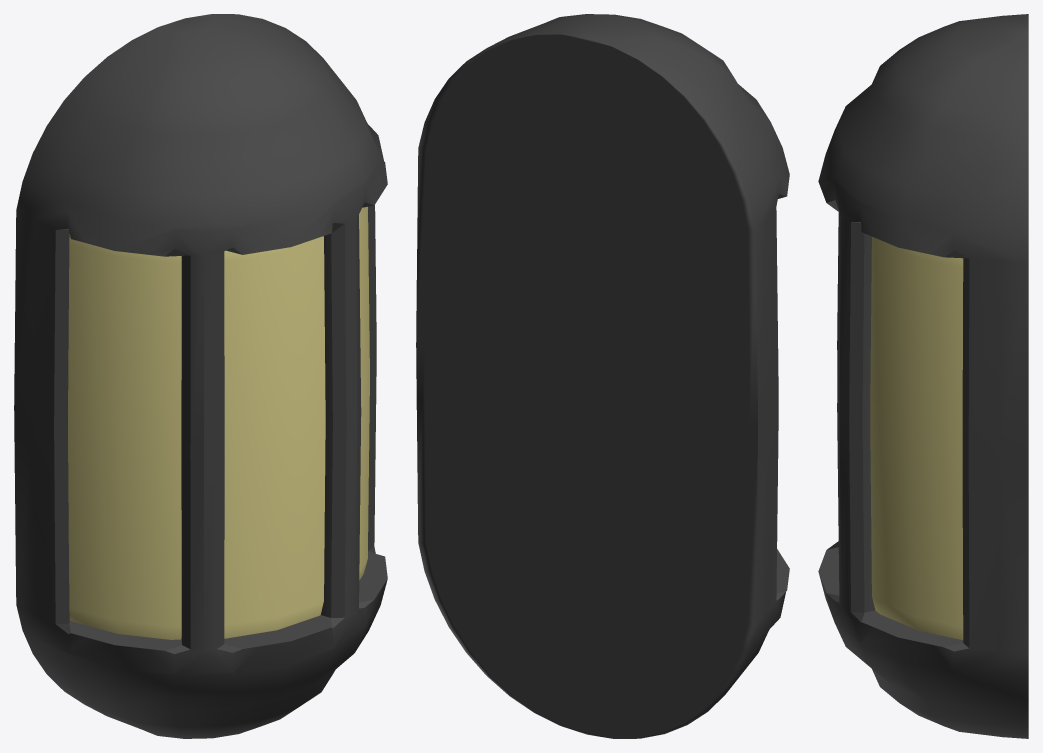
Rendered from Wall_Lamp.fbx.
3 views of the same model, side by side, from view 1: azimuth 30°, elevation 25°; view 2: azimuth 150°, elevation 25°; view 3: azimuth 270°, elevation 25° (orthographic).
Visible parts, largest first — view 1: pSphere2, pSphere1; view 2: pSphere2; view 3: pSphere2, pSphere1.
Part boxes in pixels (bbox=[...]): pSphere2: bbox=[14, 14, 387, 738]; pSphere1: bbox=[68, 206, 369, 639]; pSphere2: bbox=[416, 14, 789, 738]; pSphere2: bbox=[818, 14, 1028, 738]; pSphere1: bbox=[870, 236, 963, 639].
Bounding box in the file's own units: 2 × 3.89 × 1.08.
